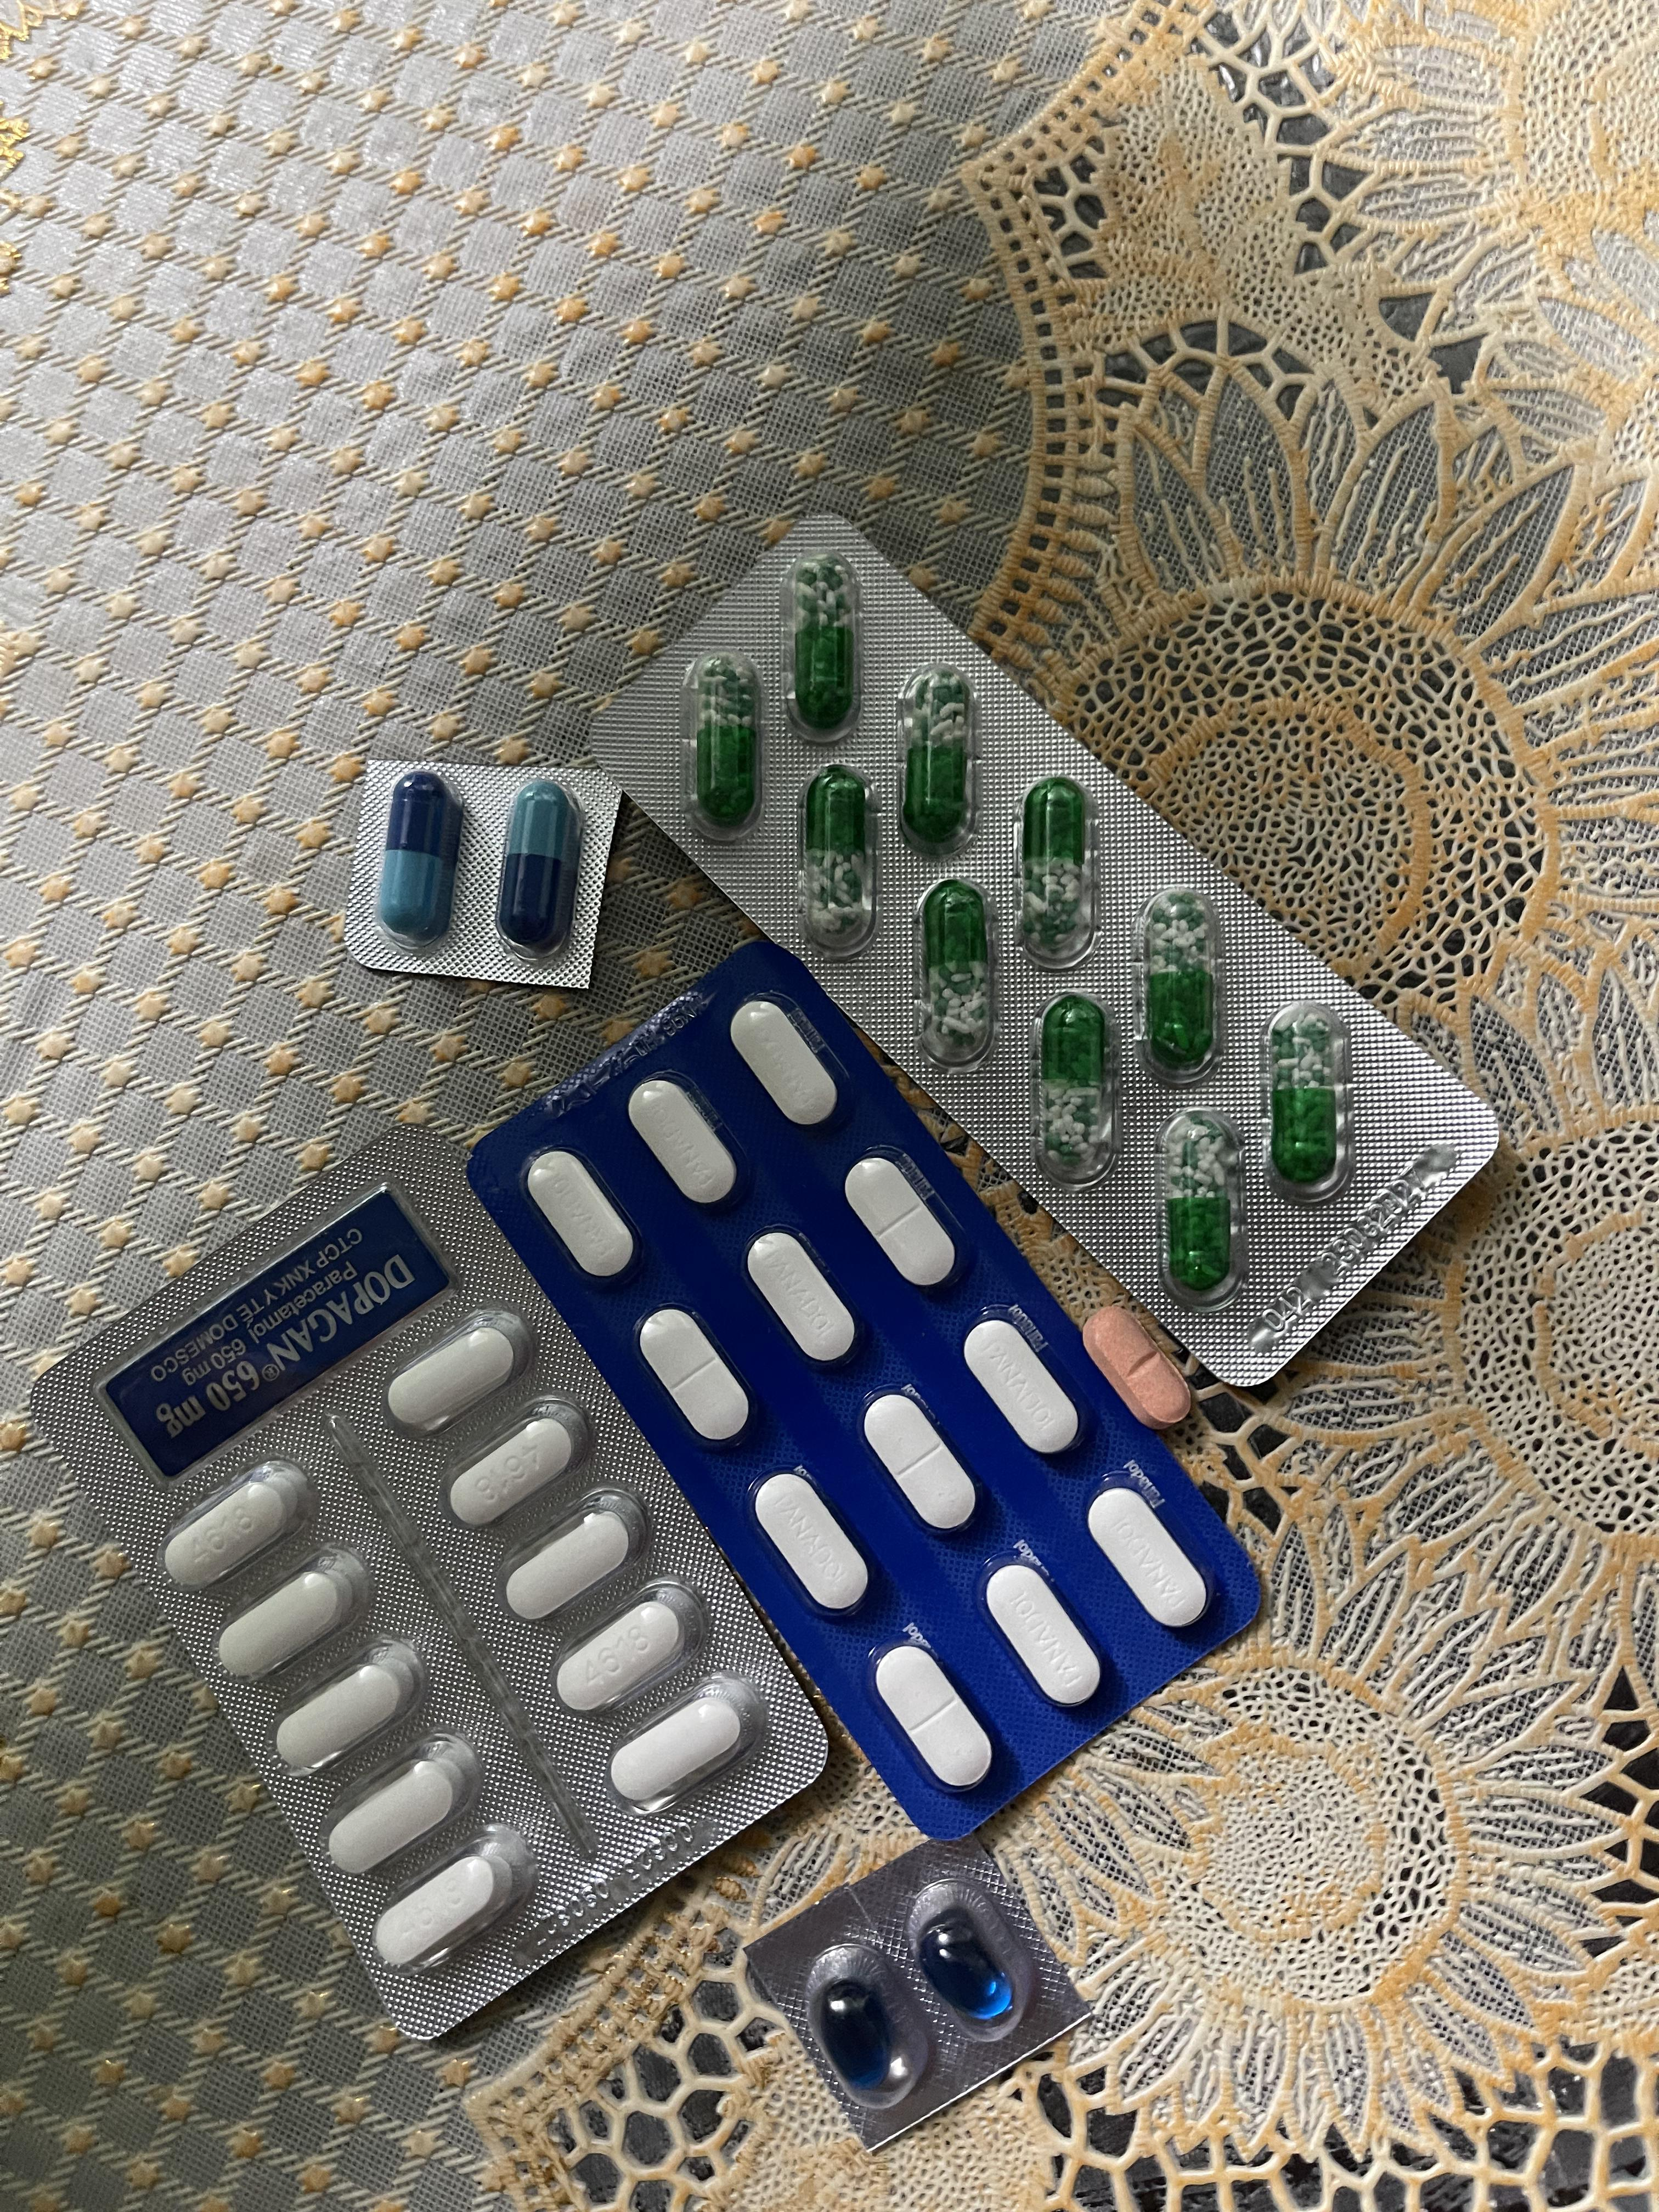Lincomyxin_500mg: (917, 1912, 1012, 2022), (816, 1977, 897, 2092)
Loratadine_10mg: (1086, 1303, 1183, 1426)
Paracetamol_350mg: (871, 1639, 992, 1792), (981, 1559, 1100, 1707), (753, 1470, 871, 1615), (1093, 1486, 1209, 1632), (964, 1315, 1080, 1456), (638, 1308, 751, 1446), (863, 1390, 972, 1531), (746, 1235, 856, 1364), (845, 1163, 957, 1287), (629, 1080, 739, 1204), (526, 1151, 634, 1277), (732, 1000, 838, 1125)
Paracetamol_500mg: (601, 1670, 763, 1815), (213, 1541, 371, 1684), (268, 1641, 422, 1775), (162, 1458, 315, 1590), (324, 1749, 471, 1876), (375, 1851, 507, 1973), (559, 1597, 690, 1714), (444, 1414, 575, 1529), (500, 1510, 631, 1625), (385, 1325, 516, 1433)
Paracetamol_650mg: (1157, 1113, 1243, 1303), (1030, 996, 1112, 1177), (896, 671, 976, 850), (917, 885, 995, 1057), (802, 775, 875, 948), (1019, 780, 1089, 949), (1145, 899, 1213, 1071), (1272, 1017, 1338, 1183), (791, 557, 854, 728), (694, 657, 756, 820)
pill: (378, 770, 467, 949), (497, 780, 582, 956)
